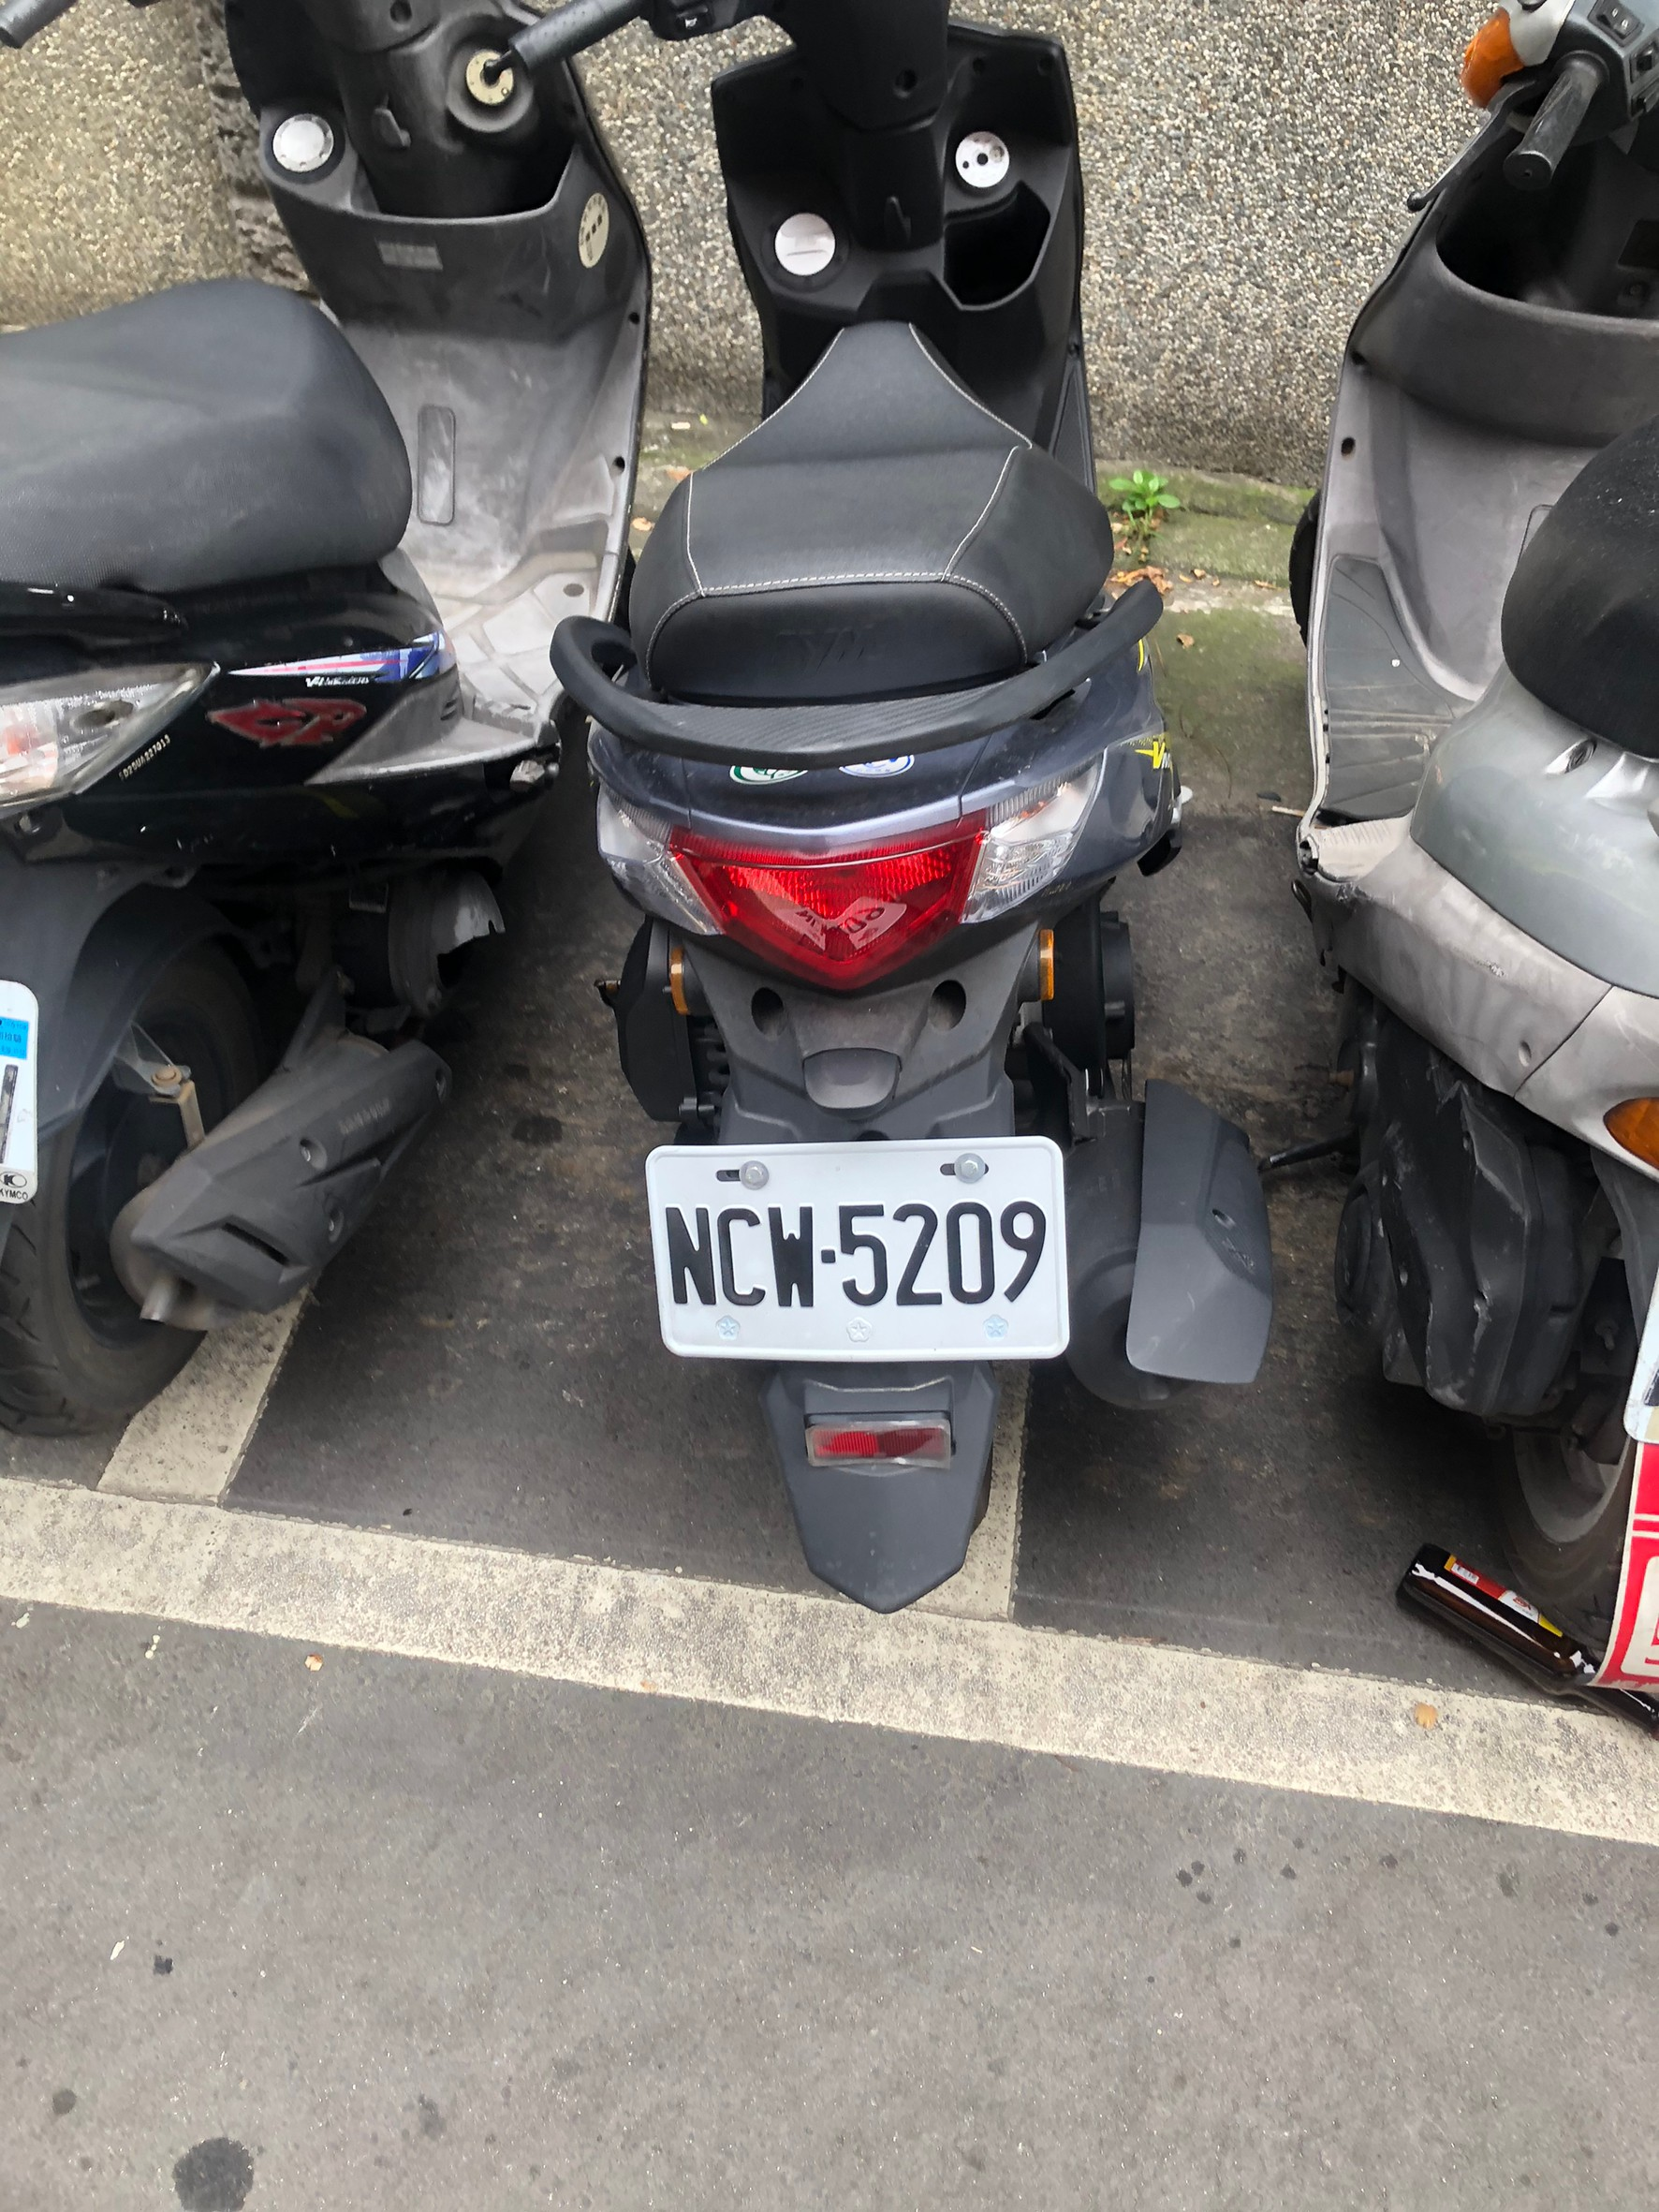LP: (633, 1132, 1076, 1372)
